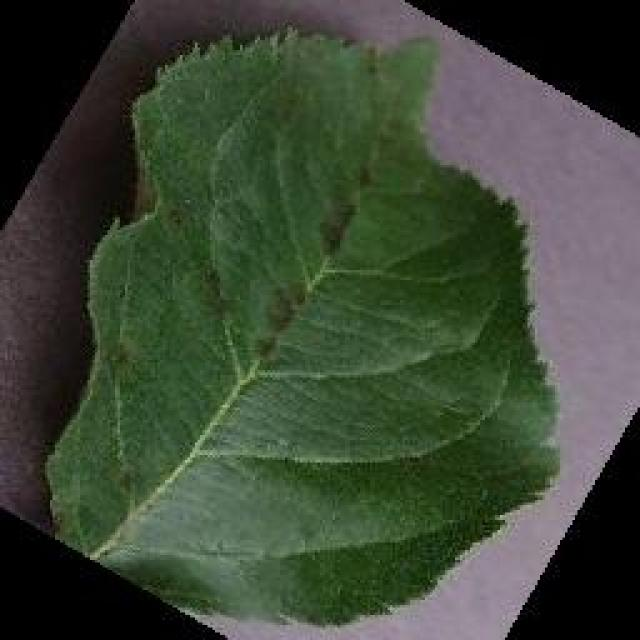apple scab disease: (40, 22, 562, 628)
